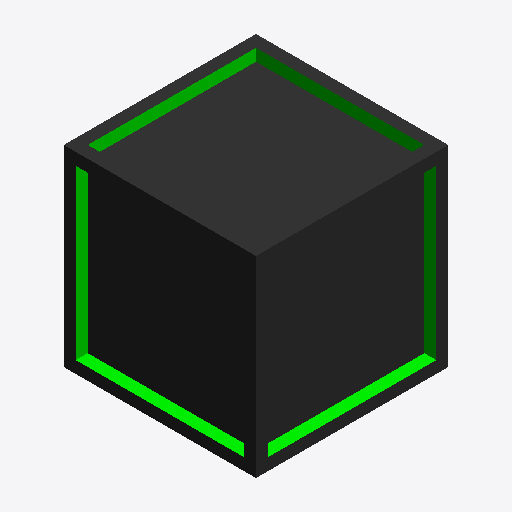
Isometric view (azimuth 45°, elevation 35.3°) of a Minecraft model made of 20 cuboids, textured from the same repository.
Visible parts, largest first — element 20, element 14, element 16, element 19, element 2, element 1, element 3, element 7, element 12, element 8, element 11, element 6 (+3 smaller).
Boxes of the visible parts, box(x1,y1,x2,y2) form: element 20: box(232, 145, 423, 442); element 14: box(88, 62, 398, 269); element 16: box(88, 270, 231, 407); element 19: box(88, 187, 231, 324); element 2: box(244, 242, 267, 477); element 1: box(64, 138, 87, 373); element 3: box(424, 138, 447, 373); element 7: box(257, 145, 435, 262); element 12: box(76, 145, 254, 262); element 8: box(77, 41, 255, 151); element 11: box(256, 41, 434, 151); element 6: box(268, 353, 435, 470).
Bounding box in the file's own units: 16 × 16 × 16.